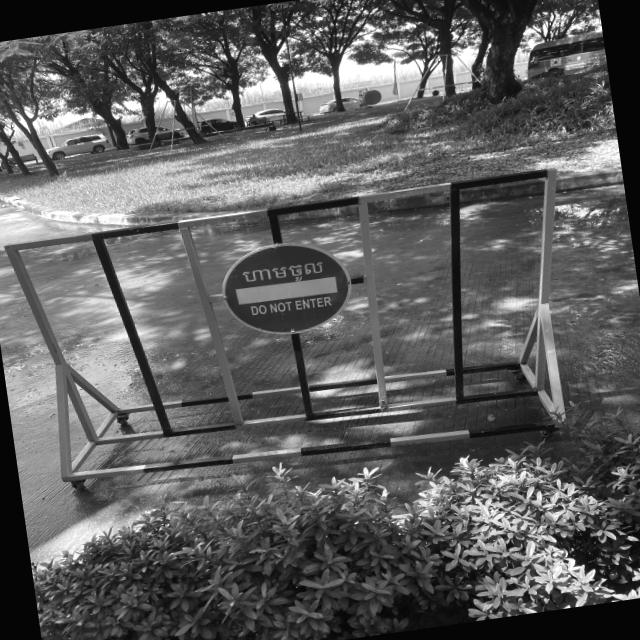Yolov11kh: (236, 258, 329, 290)
